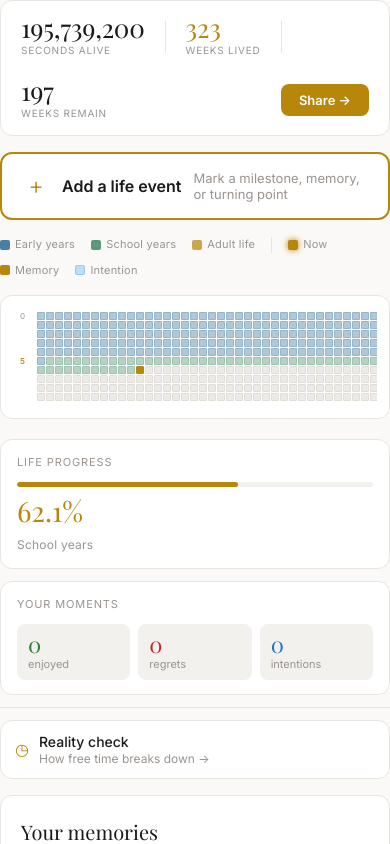
Test: Grid — add-by-date modal › opens a modal titled "Add a life event by date"
Click the button "Add a life event" at (195, 186), box [0,152,389,220]
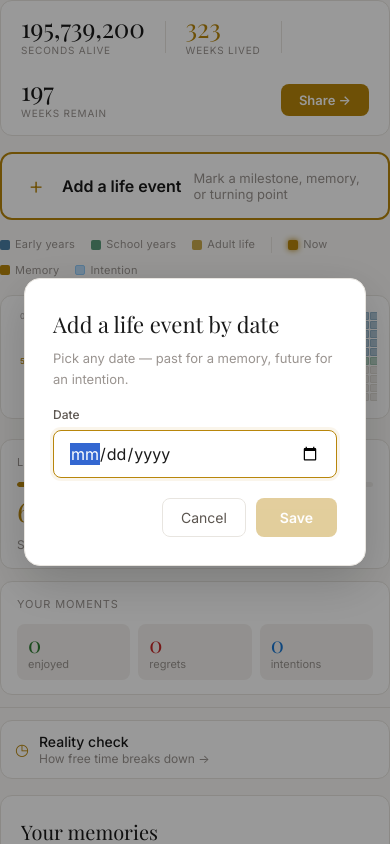
Check: the text "Add a life event by date" is shown, box [53,308,279,338]
